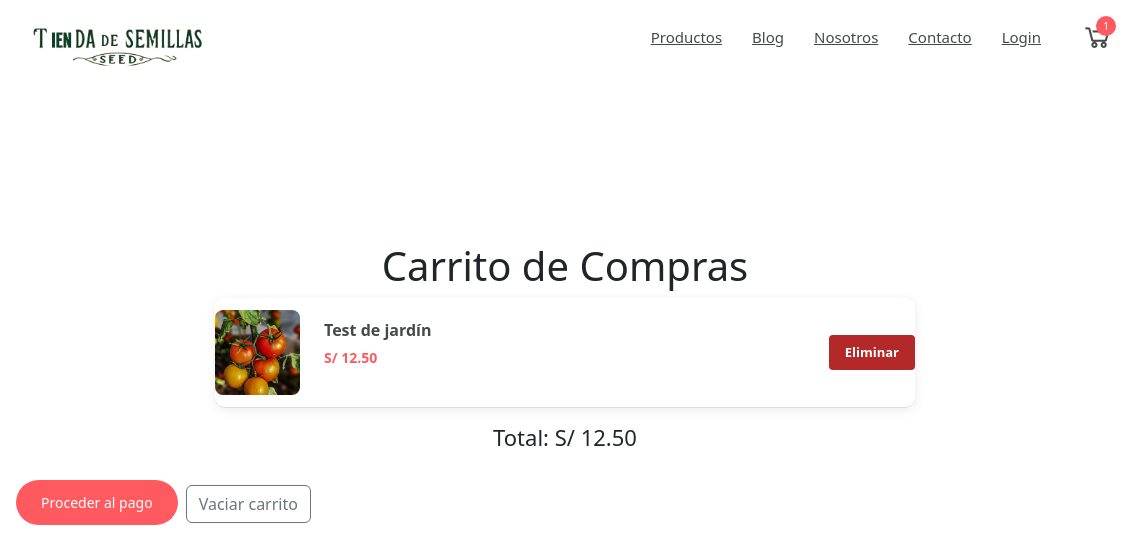
Test: Componentes de tienda › 42. Vaciar carrito muestra vista vacía
Click the button "Vaciar carrito" at (248,504), box left=186, top=485, right=311, bottom=523
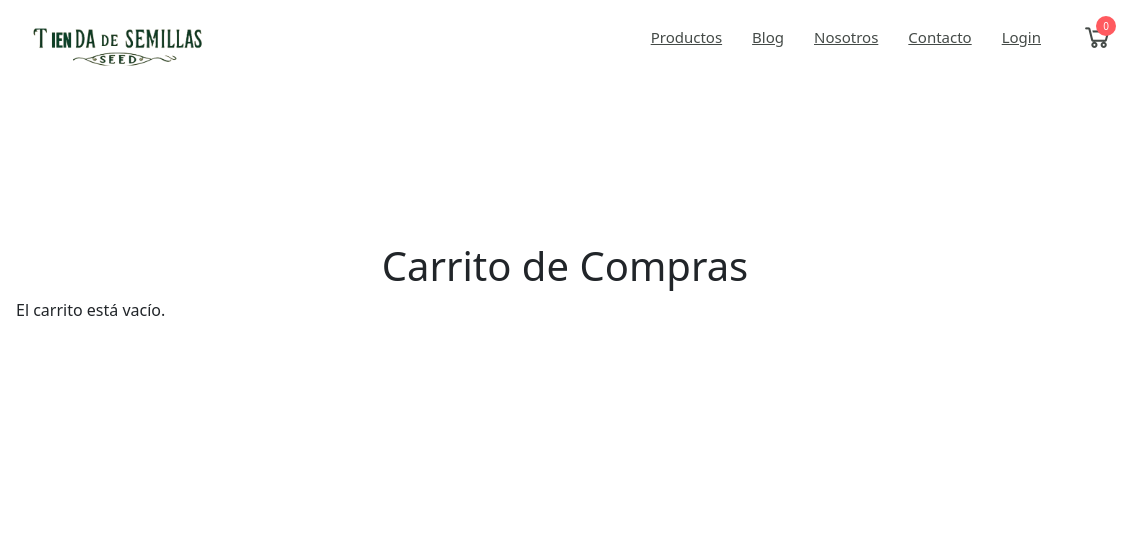
Result: the text "El carrito está vacío" is shown at left=16, top=299, right=165, bottom=321
